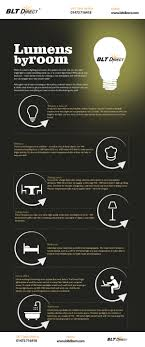bulb: (89, 35, 133, 94)
